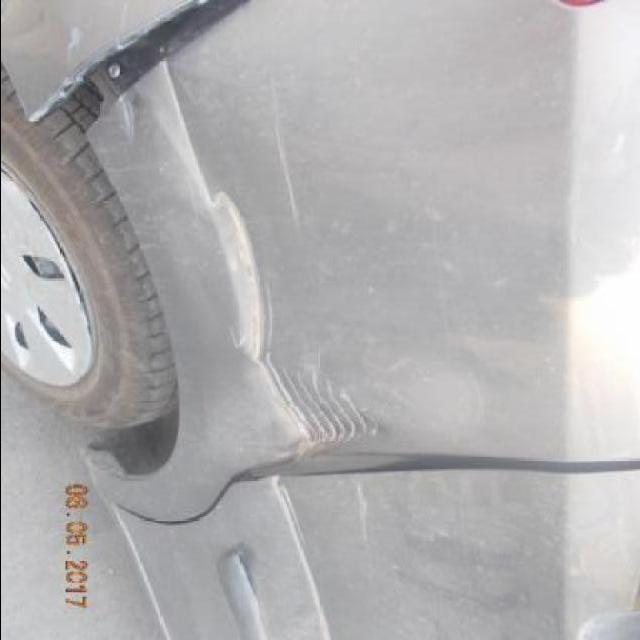quaterpanel-dent: (5, 34, 492, 473)
